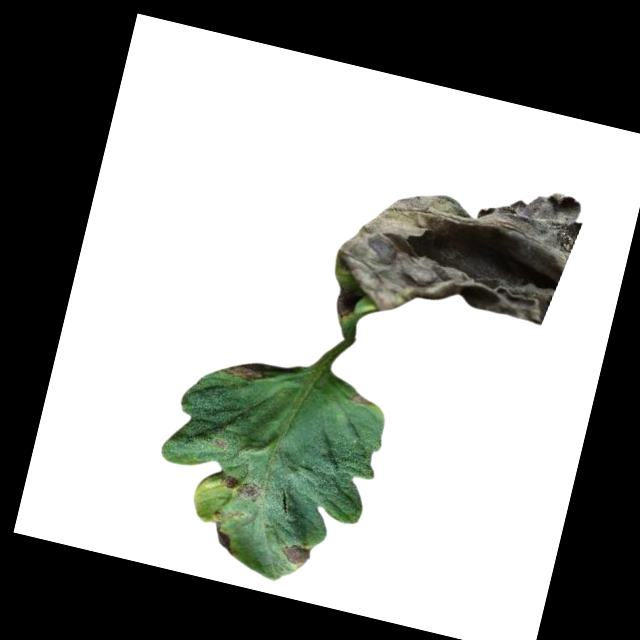Early_blight: (321, 144, 587, 368), (220, 351, 292, 390), (204, 510, 241, 555), (218, 472, 263, 503), (276, 540, 316, 572), (347, 391, 373, 408), (213, 438, 226, 451)
